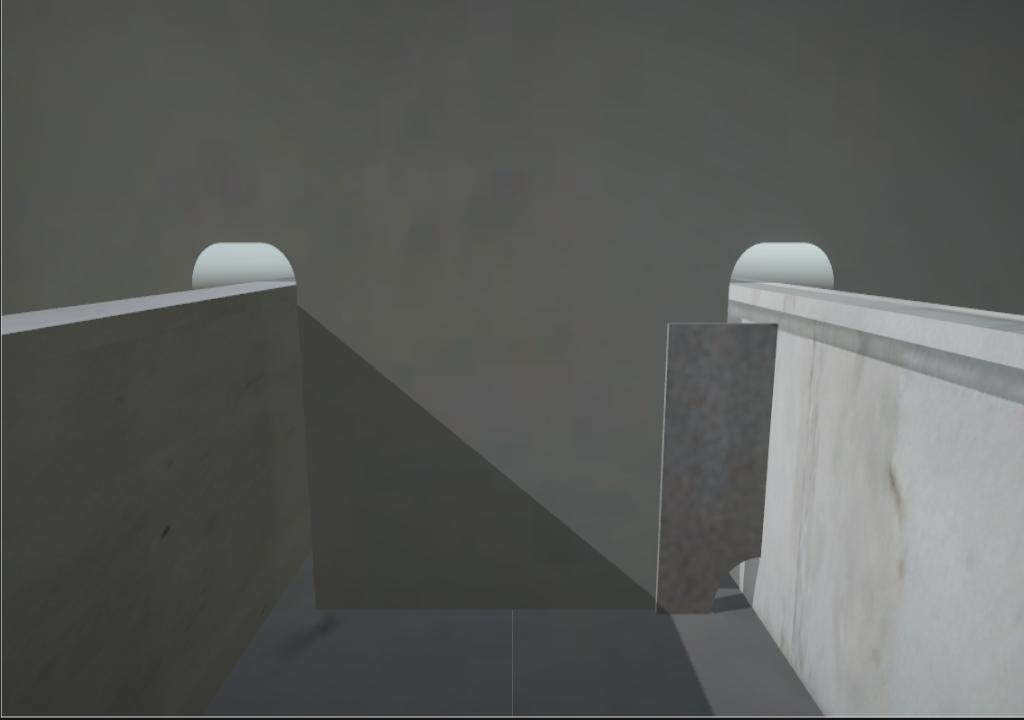fillet_yong_jeop_jang: (316, 599, 657, 615)
plate_CP02: (656, 320, 778, 616)
